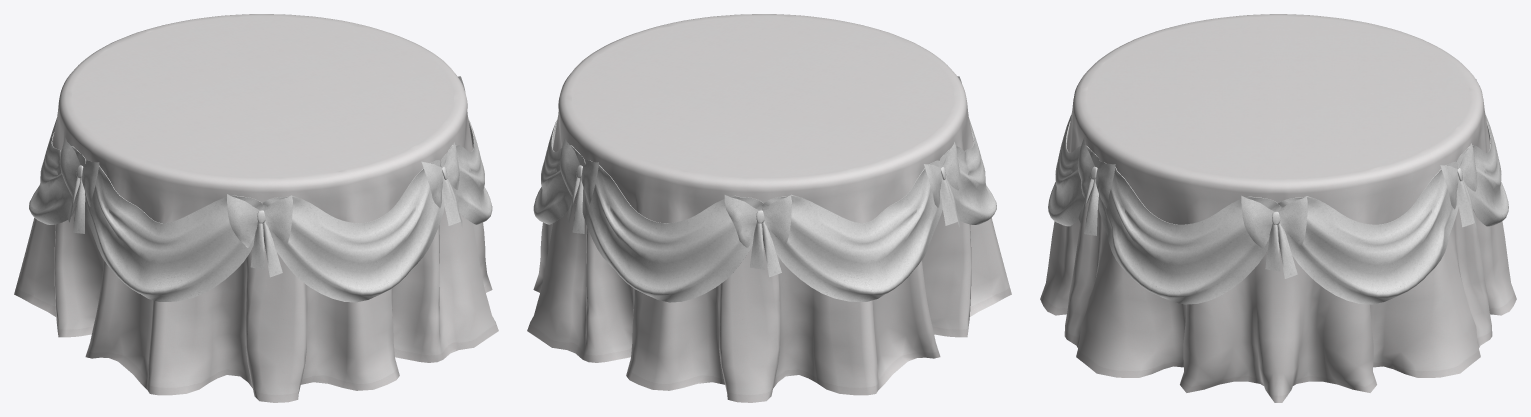
The model's file is EventTable03Cloth01_3.FBX.
3 renders of one model, left to right at view 1: azimuth 30°, elevation 25°; view 2: azimuth 150°, elevation 25°; view 3: azimuth 270°, elevation 25°, orthographic.
Visible parts, largest first — view 1: EventTable03Cloth01_3; view 2: EventTable03Cloth01_3; view 3: EventTable03Cloth01_3.
Part boxes in pixels (x1,y1,x2,y2): EventTable03Cloth01_3: (14, 14, 498, 402); EventTable03Cloth01_3: (527, 14, 1011, 402); EventTable03Cloth01_3: (1040, 14, 1516, 402).
Size of what is drawn, in the model's own units: 1.84 by 0.9001 by 1.9.
